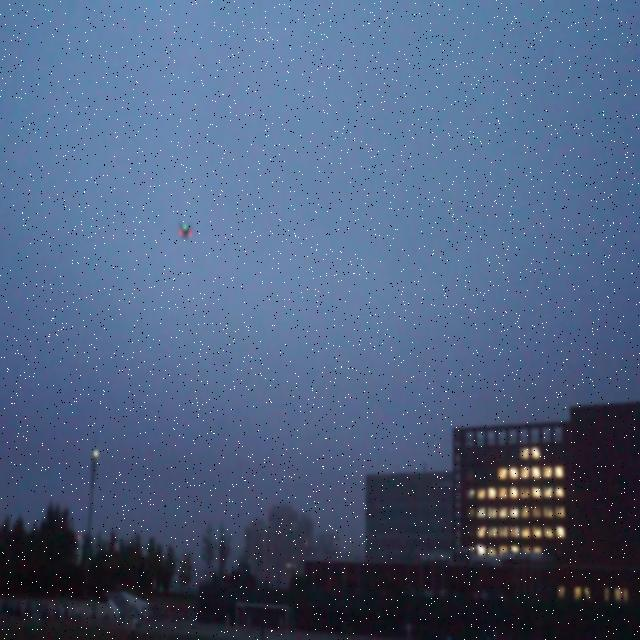UAV: (179, 221, 192, 240)
